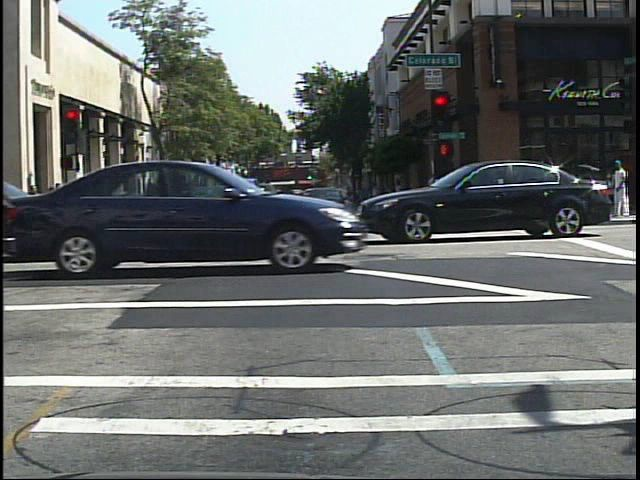person: (608, 156, 635, 221)
